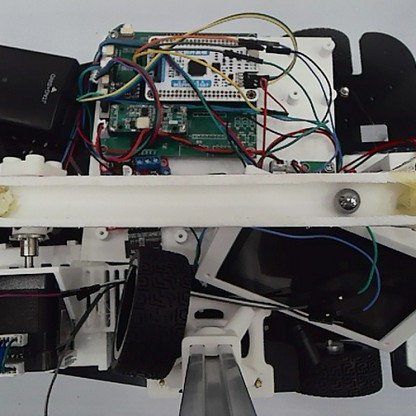ironball: (332, 185, 360, 214)
